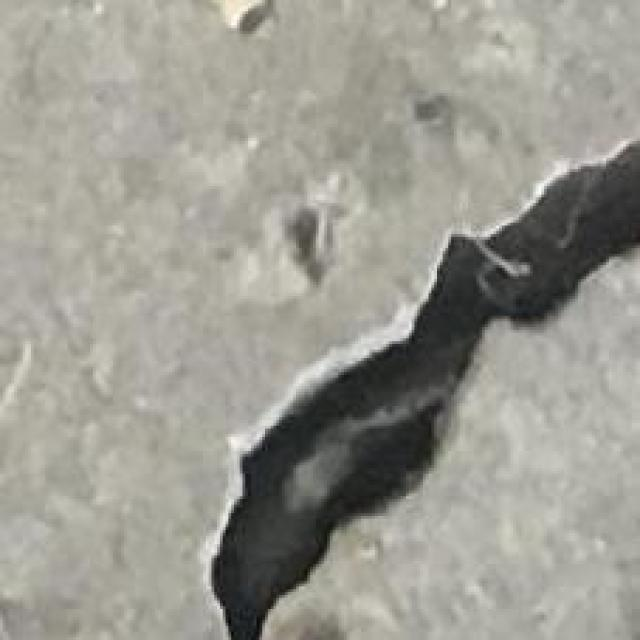diagonal crack: (211, 140, 639, 639)
